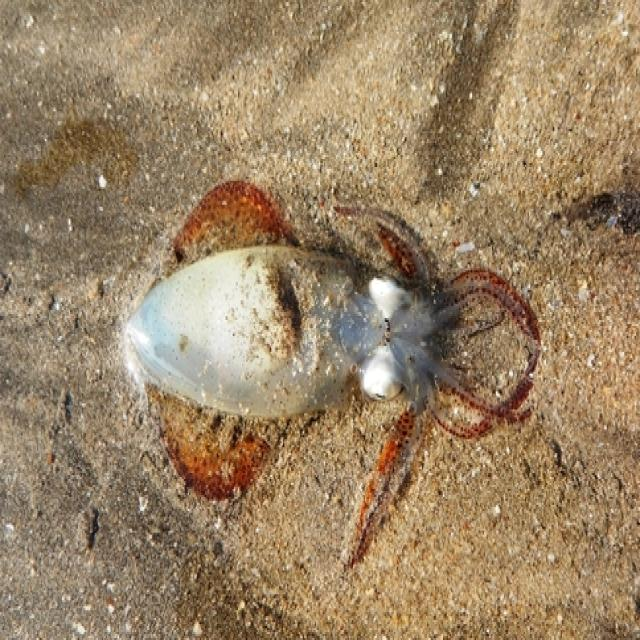SQUID: (119, 155, 546, 589)
